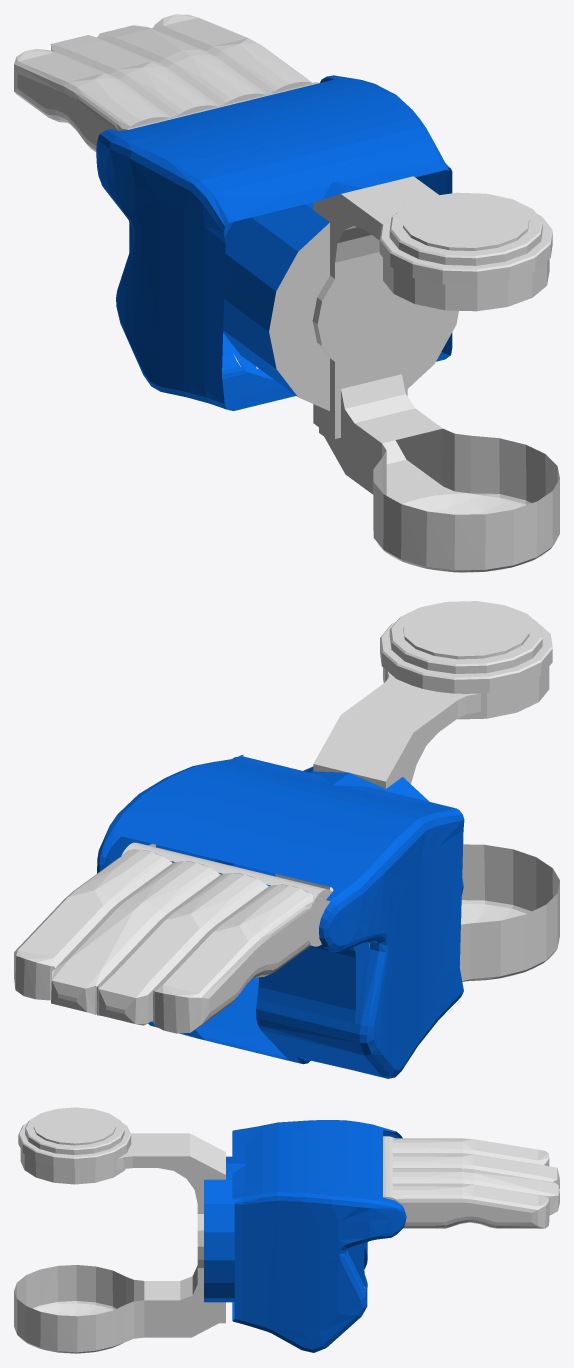
Rendered from LARM_LINK6_mesh.dae.
The picture shows the model from 3 angles, top to bottom: view 1: azimuth 30°, elevation 25°; view 2: azimuth 150°, elevation 25°; view 3: azimuth 270°, elevation 25°; orthographic projection. The views are drawn at different scales.
Visible parts, largest first — view 1: LARM_LINK6 (×3); view 2: LARM_LINK6 (×3); view 3: LARM_LINK6 (×3).
Boxes of the visible parts, bbox=[...] form: LARM_LINK6 (×3): bbox=[14, 14, 559, 572]; LARM_LINK6 (×3): bbox=[14, 601, 559, 1078]; LARM_LINK6 (×3): bbox=[14, 1107, 559, 1353].
Size of the model in its own units: 0.0895 by 0.1075 by 0.2513.
